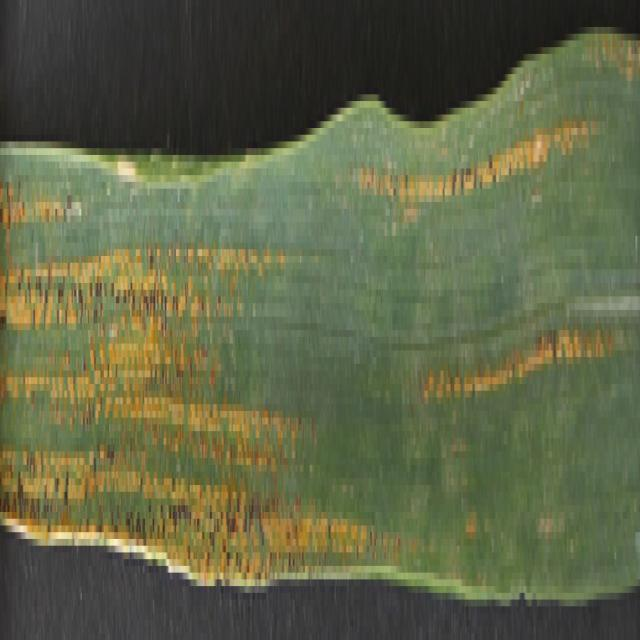leaf rust: (2, 101, 619, 586)
